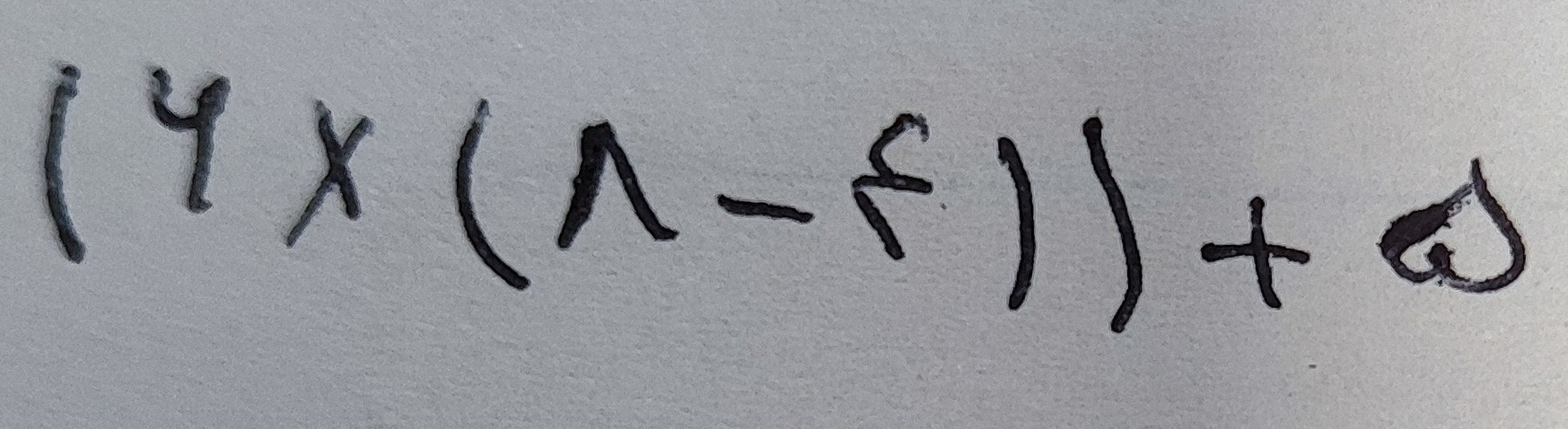character: (1360, 127, 1539, 312), (432, 80, 536, 305), (554, 96, 681, 271), (1062, 99, 1155, 335), (1169, 176, 1319, 322), (126, 44, 238, 221), (284, 74, 388, 264), (849, 96, 954, 282), (970, 119, 1054, 314), (33, 44, 100, 276), (706, 154, 820, 246)
